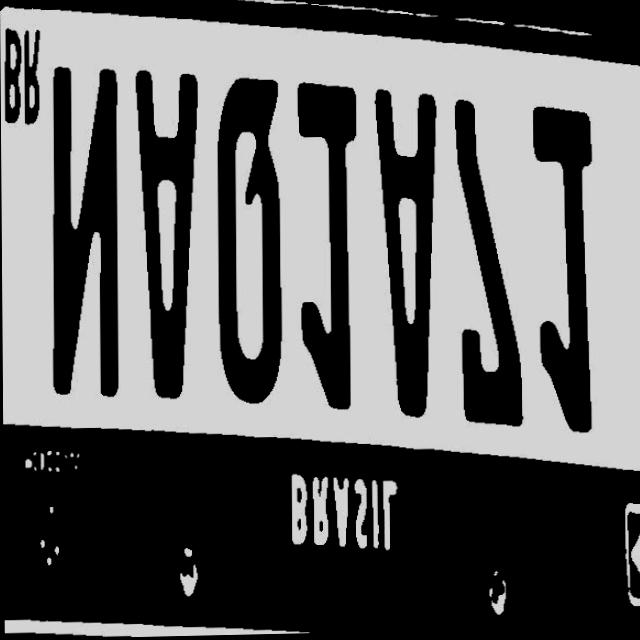1: (524, 104, 596, 433), (295, 97, 362, 424)
7: (447, 101, 521, 436)
a: (366, 87, 445, 431), (127, 74, 206, 403)
n: (48, 60, 127, 404)
q: (213, 77, 290, 406)
